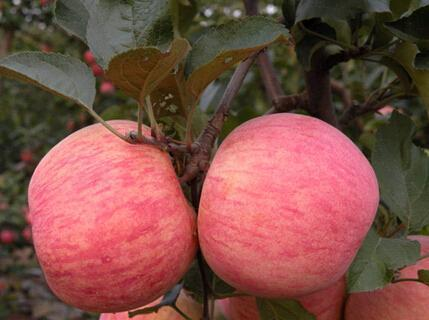apple: (200, 112, 380, 296), (26, 119, 198, 310)
